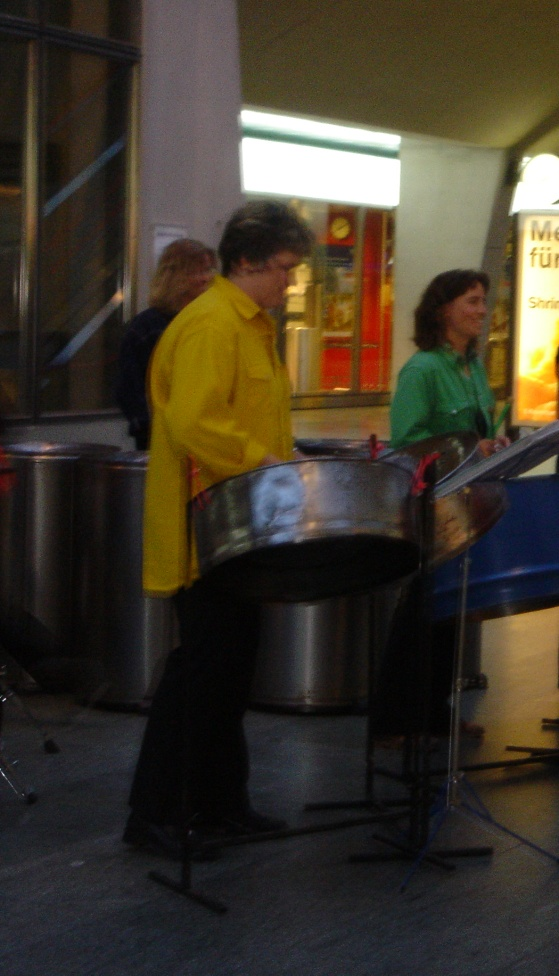person: (145, 201, 312, 866)
